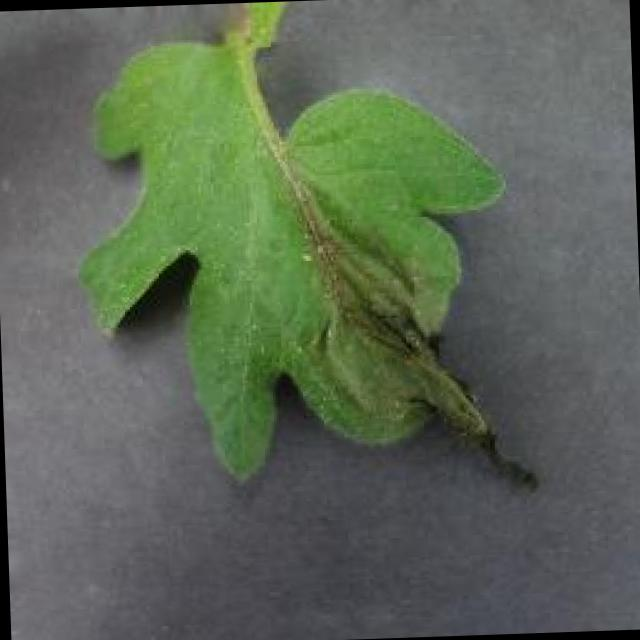Tomato_Late_Blight: (293, 170, 586, 496)
